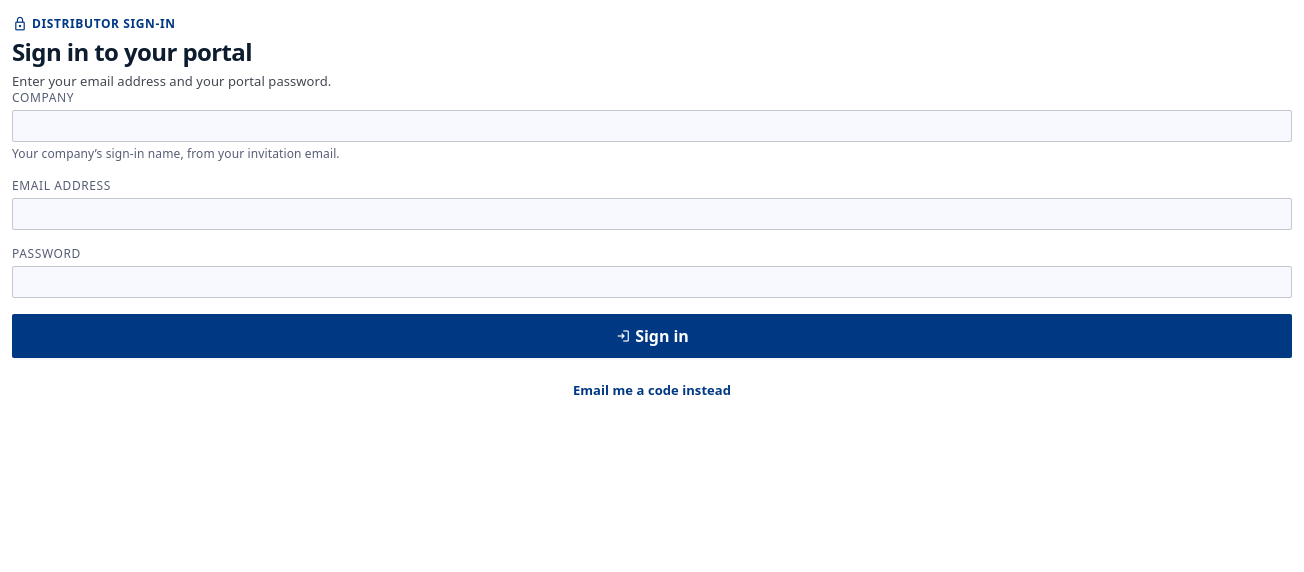
PortalSignIn (SC-27) › asks for the company without a ?tenant=, and shows the generic and the locked refusals
This screenshot has width=1304, height=572.
Click the button "Sign in" at (652, 336), box x1=12 y1=314 x2=1292 y2=358
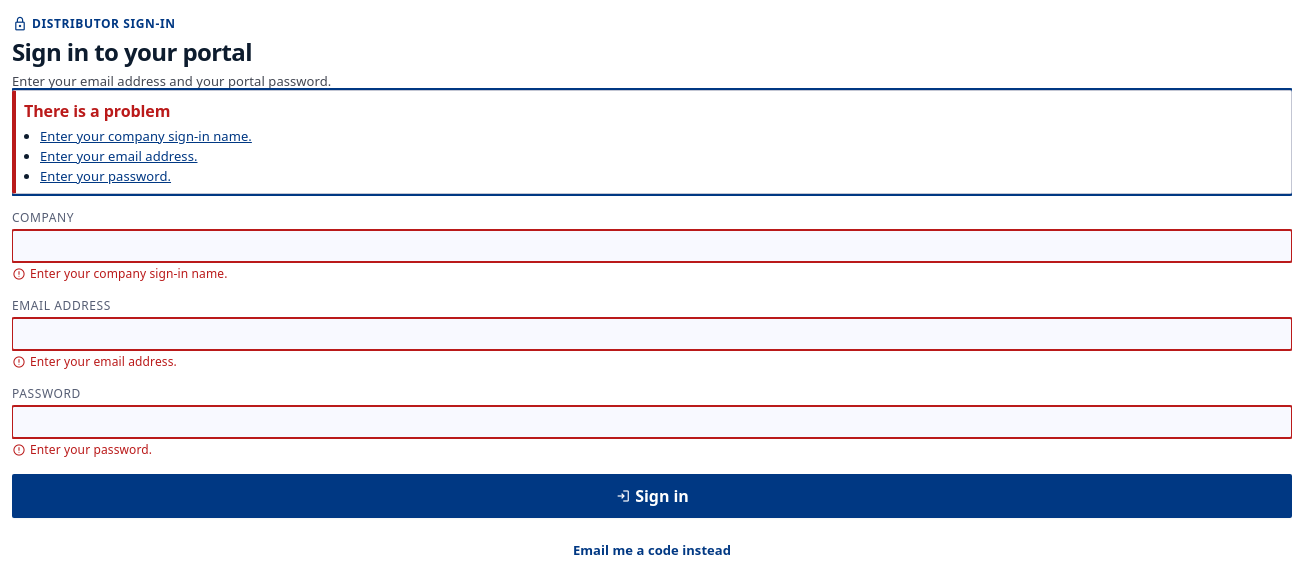
Result: the link "Enter your company sign-in name." is shown at x1=40 y1=127 x2=252 y2=145
Type "acme" into the field labelled "Company" at (652, 246), box x1=12 y1=230 x2=1292 y2=262
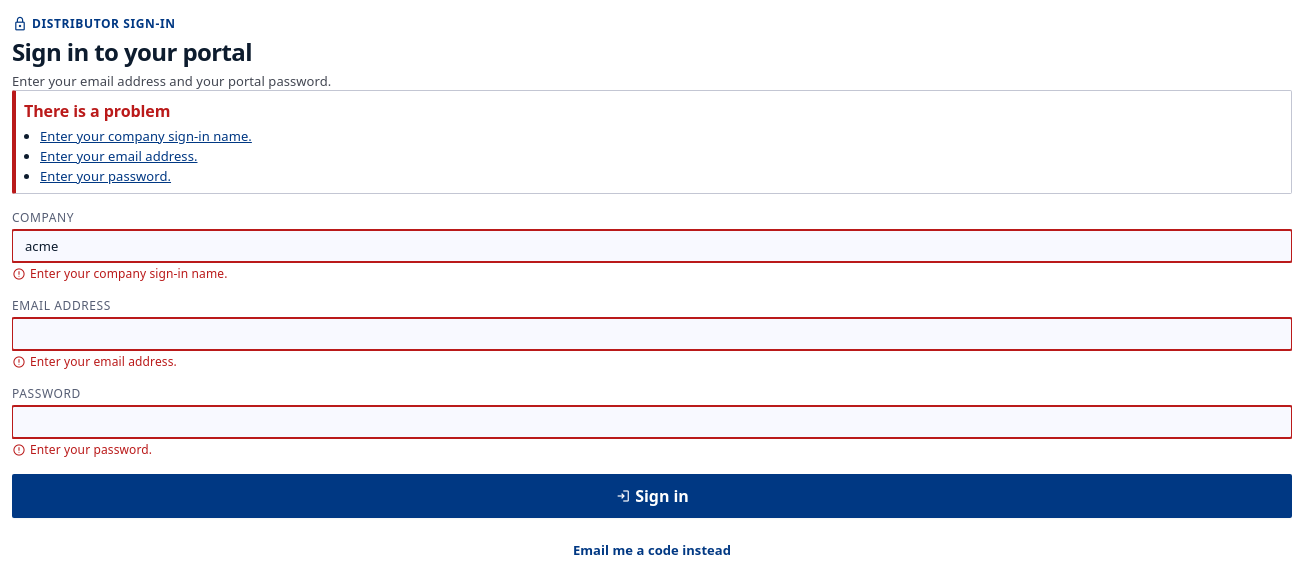
Type "de-c@example.test" into the field labelled "Email address" at (652, 334), box x1=12 y1=318 x2=1292 y2=350
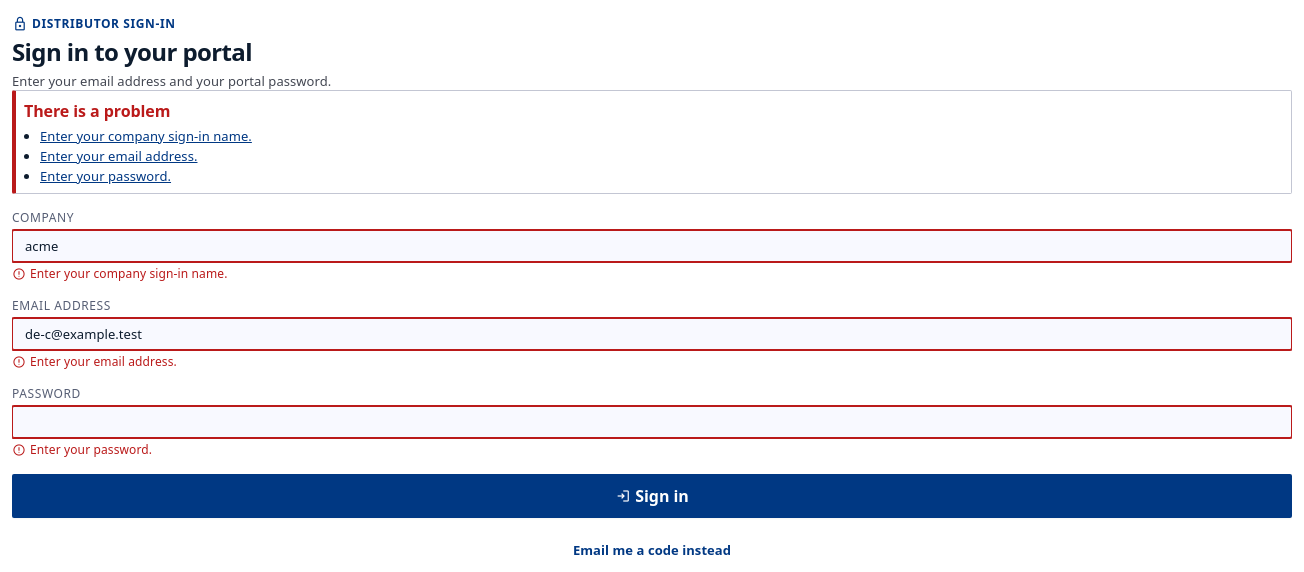
Type "wrong password here" into the password field labelled "Password" at (652, 422), box x1=12 y1=406 x2=1292 y2=438
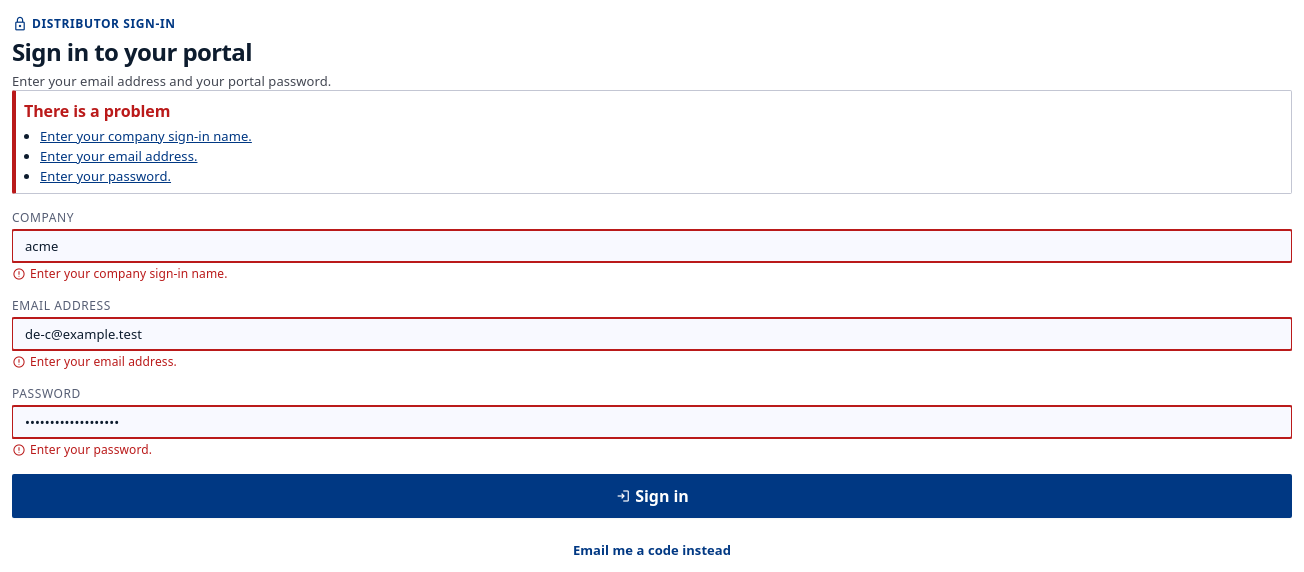
Click the button "Sign in" at (652, 496), box x1=12 y1=474 x2=1292 y2=518
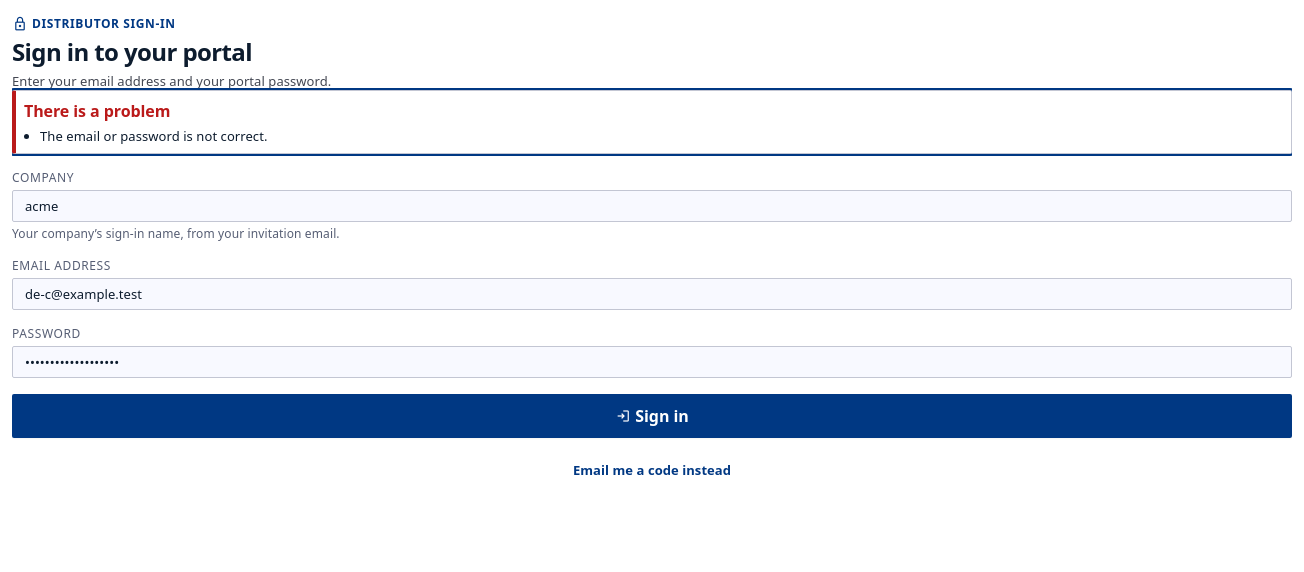
Result: the list item "The email or password is not correct." is shown at x1=40 y1=127 x2=267 y2=145
Click the button "Sign in" at (652, 416), box x1=12 y1=394 x2=1292 y2=438
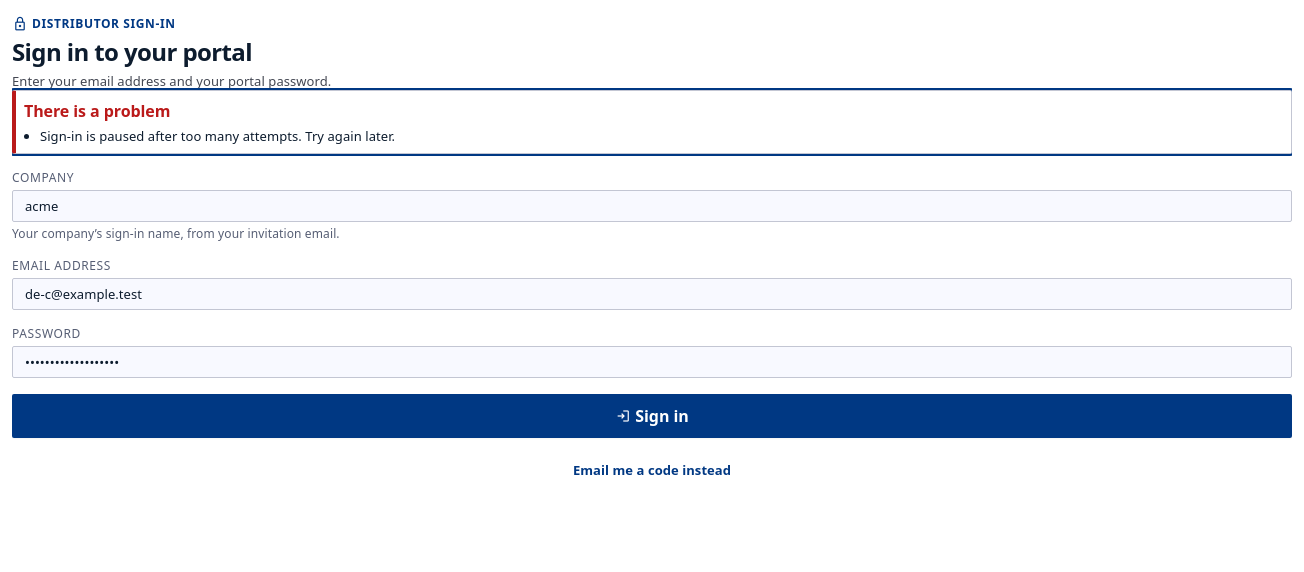
Result: the list item "Sign-in is paused after too many attempts. Try again later." is shown at x1=40 y1=127 x2=395 y2=145
